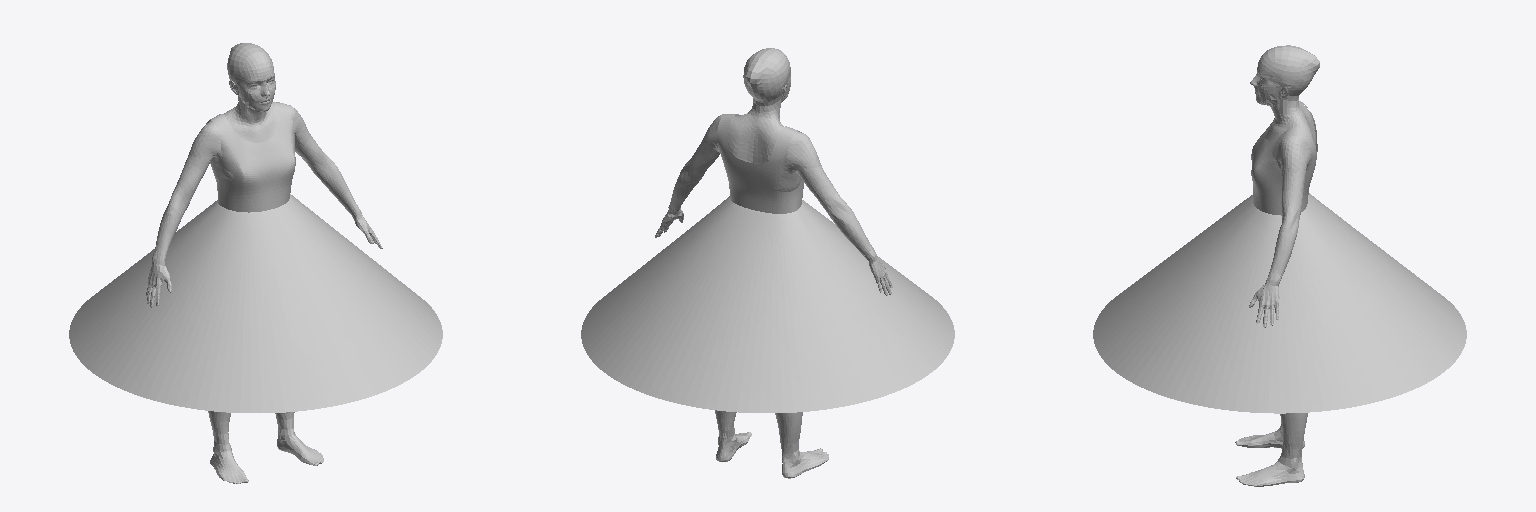
The model's file is Circle Dress 2016 July 8 with body.obj.
The picture shows the model from 3 angles: view 1: azimuth 30°, elevation 25°; view 2: azimuth 150°, elevation 25°; view 3: azimuth 270°, elevation 25°; orthographic projection.
Parts seen in each view (by area): view 1: FF_360_round_neck.028_dress_base_seams_neckline_test_female_Swea, size_4_inches_size_4_pelvis.003, FF_360_round_neck.007_dress_base_seams_neckline_test_female_Swea; view 2: FF_360_round_neck.028_dress_base_seams_neckline_test_female_Swea, size_4_inches_size_4_pelvis.003, FF_360_round_neck.007_dress_base_seams_neckline_test_female_Swea; view 3: FF_360_round_neck.028_dress_base_seams_neckline_test_female_Swea, size_4_inches_size_4_pelvis.003, FF_360_round_neck.007_dress_base_seams_neckline_test_female_Swea.
Boxes of the visible parts, x1=… form: FF_360_round_neck.028_dress_base_seams_neckline_test_female_Swea: x1=69, y1=194, x2=442, y2=412; size_4_inches_size_4_pelvis.003: x1=146, y1=43, x2=382, y2=483; FF_360_round_neck.007_dress_base_seams_neckline_test_female_Swea: x1=206, y1=102, x2=295, y2=212; FF_360_round_neck.028_dress_base_seams_neckline_test_female_Swea: x1=581, y1=196, x2=954, y2=412; size_4_inches_size_4_pelvis.003: x1=655, y1=48, x2=892, y2=478; FF_360_round_neck.007_dress_base_seams_neckline_test_female_Swea: x1=717, y1=114, x2=803, y2=213; FF_360_round_neck.028_dress_base_seams_neckline_test_female_Swea: x1=1093, y1=193, x2=1466, y2=413; size_4_inches_size_4_pelvis.003: x1=1235, y1=45, x2=1319, y2=486; FF_360_round_neck.007_dress_base_seams_neckline_test_female_Swea: x1=1251, y1=101, x2=1317, y2=215.
Size of the model in its own units: 52.18 by 63.98 by 52.17.